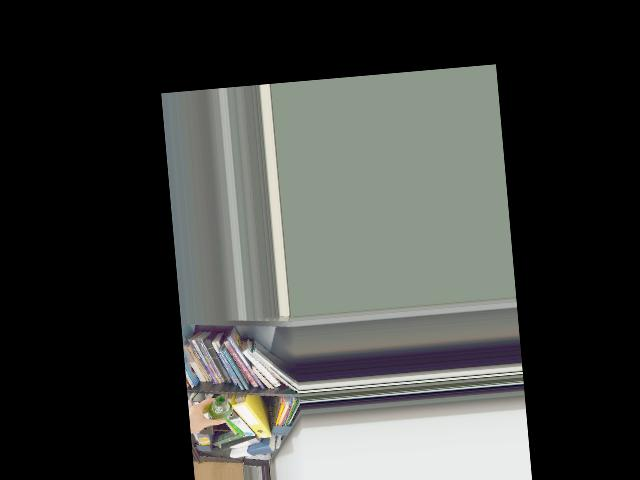beer: (207, 395, 233, 422)
